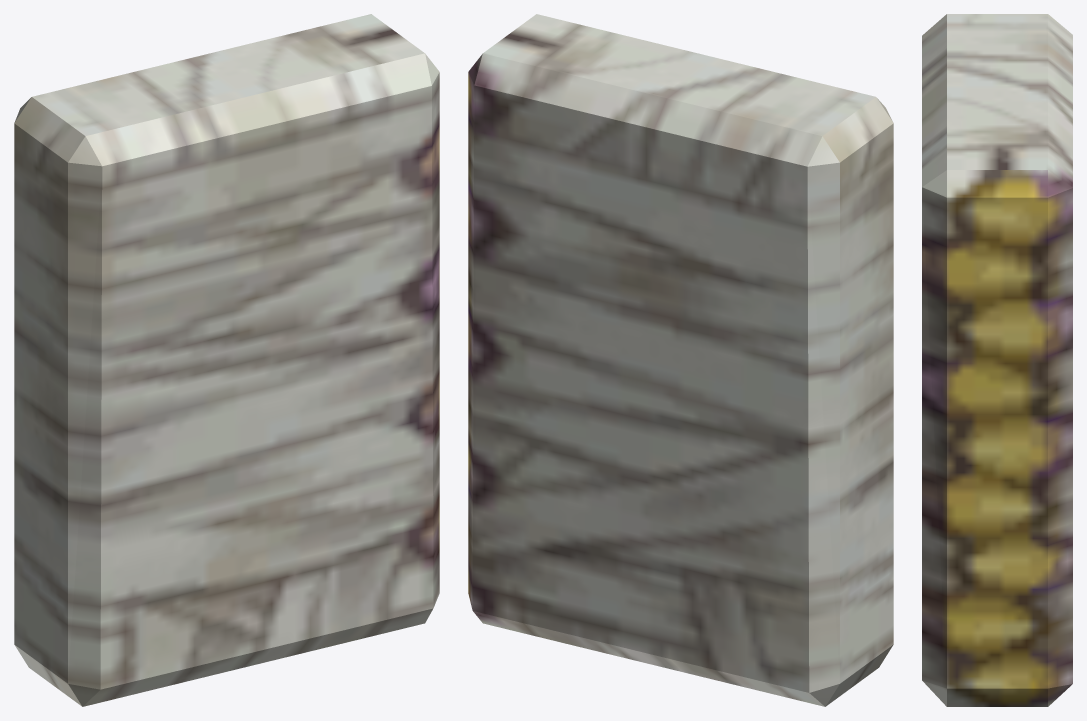
Rendered from Sheep_mummyBook.obj.
3 views of the same model, side by side, from view 1: azimuth 30°, elevation 25°; view 2: azimuth 150°, elevation 25°; view 3: azimuth 270°, elevation 25° (orthographic). The views are drawn at different scales.
Parts seen in each view (by area): view 1: Sheep_mummyBook_tri; view 2: Sheep_mummyBook_tri; view 3: Sheep_mummyBook_tri.
Boxes of the visible parts, <box> form: Sheep_mummyBook_tri: <box>14,14,439,706</box>; Sheep_mummyBook_tri: <box>468,14,893,706</box>; Sheep_mummyBook_tri: <box>922,14,1072,706</box>.
Size of the model in its own units: 0.2545 by 0.373 by 0.095.
Materials: 1 (1 with a texture image).
